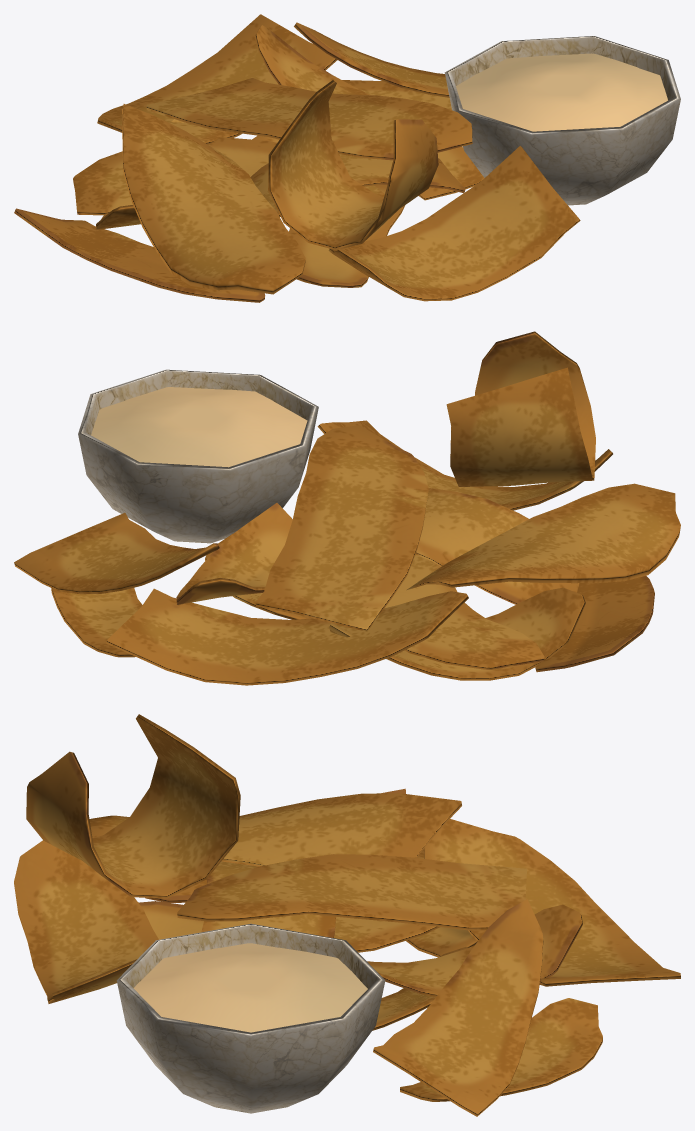
File: arracachaFull.glb
3 views of the same model, one above another, from view 1: azimuth 30°, elevation 25°; view 2: azimuth 150°, elevation 25°; view 3: azimuth 270°, elevation 25° (orthographic). The views are drawn at different scales.
Visible parts, largest first — view 1: polySurface22, pDisc3; view 2: polySurface22, pDisc3; view 3: polySurface22, pDisc3.
Part boxes in pixels (x1=…): polySurface22: x1=14, y1=14, x2=580, y2=302; pDisc3: x1=444, y1=36, x2=680, y2=205; polySurface22: x1=14, y1=331, x2=680, y2=685; pDisc3: x1=78, y1=369, x2=318, y2=543; polySurface22: x1=14, y1=714, x2=680, y2=1116; pDisc3: x1=116, y1=923, x2=385, y2=1113.
Bounding box in the file's own units: 1.91 × 0.6059 × 1.72.
Materials: 3 (3 with a texture image).
